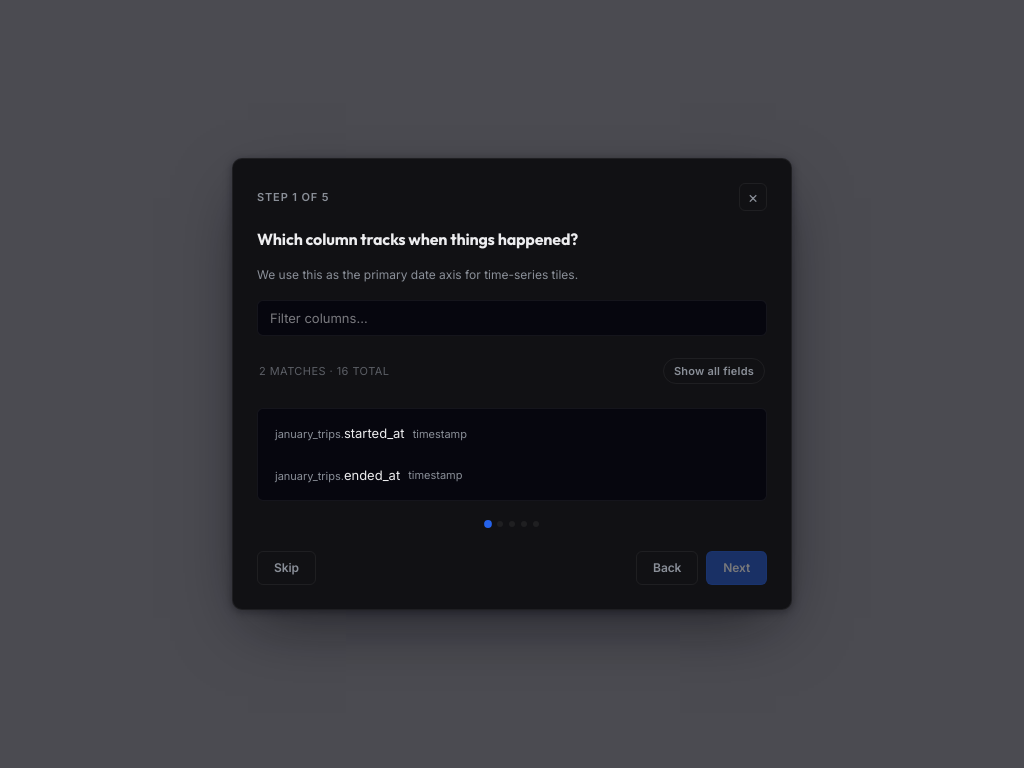
SemanticTagWizard › real backend schema (no role field) › step 3 (dimension) shows every non-temporal categorical column
Note: Advance through date + measure.
Click the option with test id "semantic-wizard-option-january_trips.started_at" at (371, 434), box [264, 415, 478, 453]
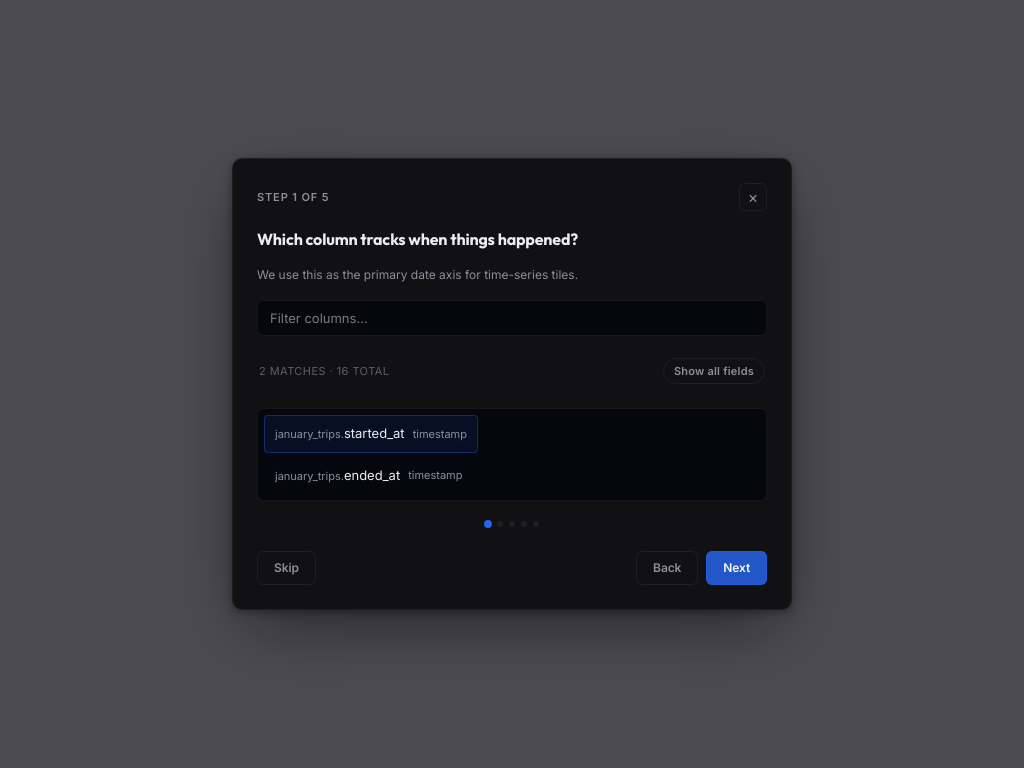
Click the button with test id "semantic-wizard-next" at (737, 568), box [706, 551, 767, 585]
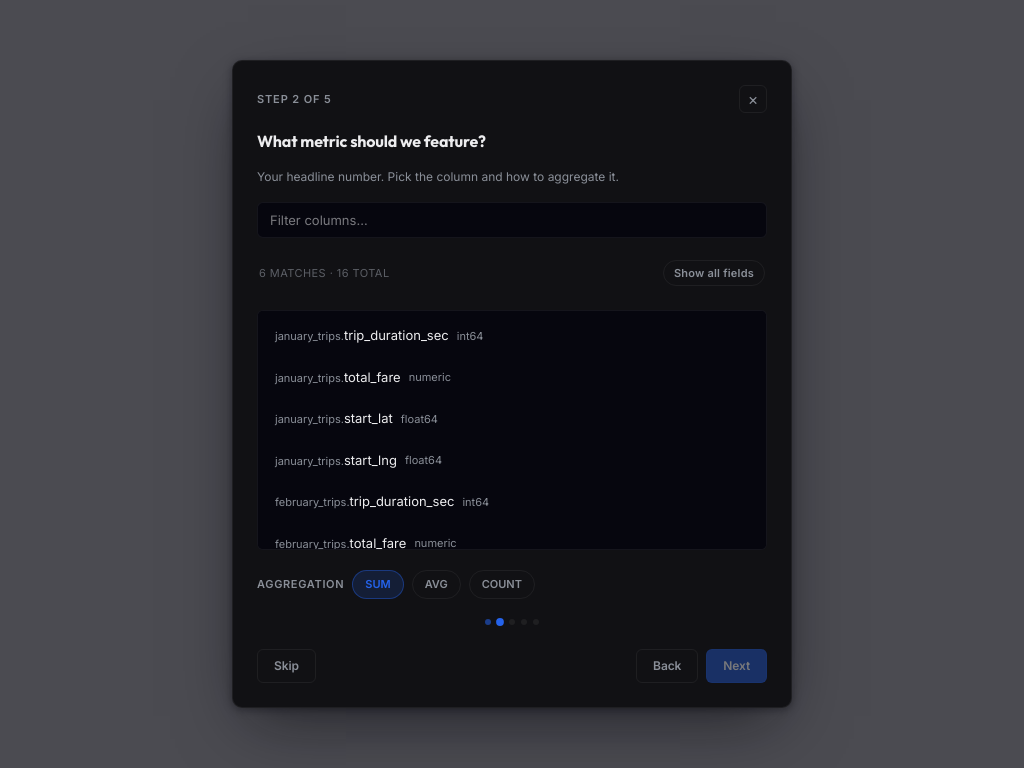
Click the option with test id "semantic-wizard-option-january_trips.total_fare" at (363, 378), box [264, 359, 462, 396]
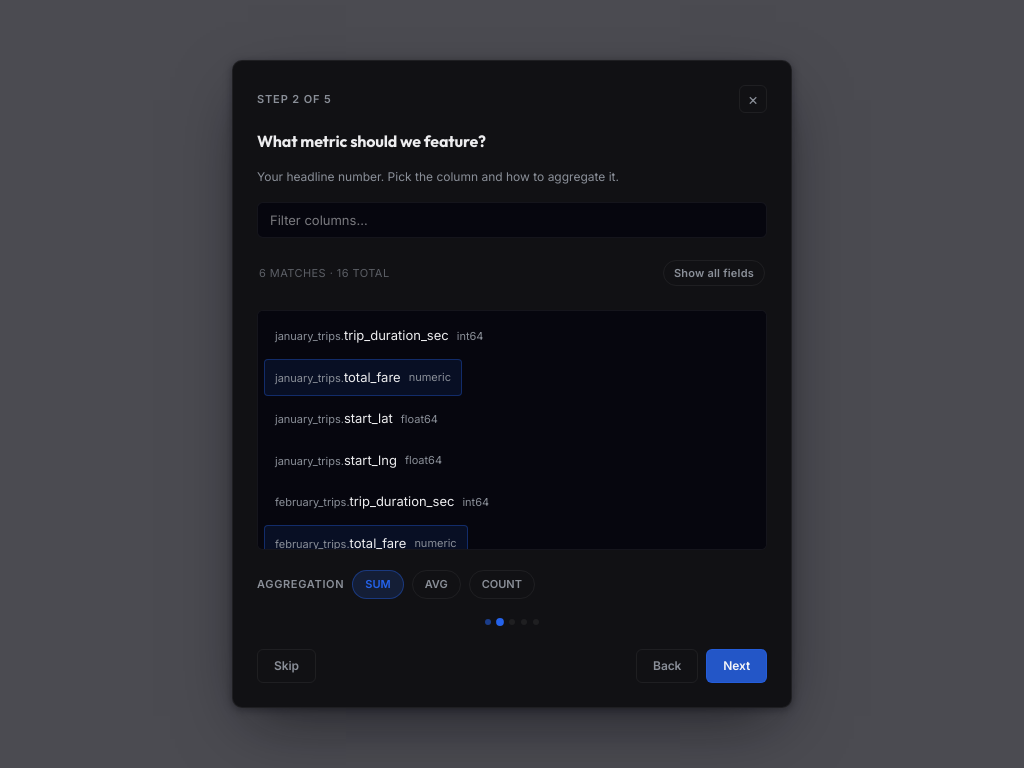
Click the button with test id "semantic-wizard-next" at (737, 666), box [706, 649, 767, 683]
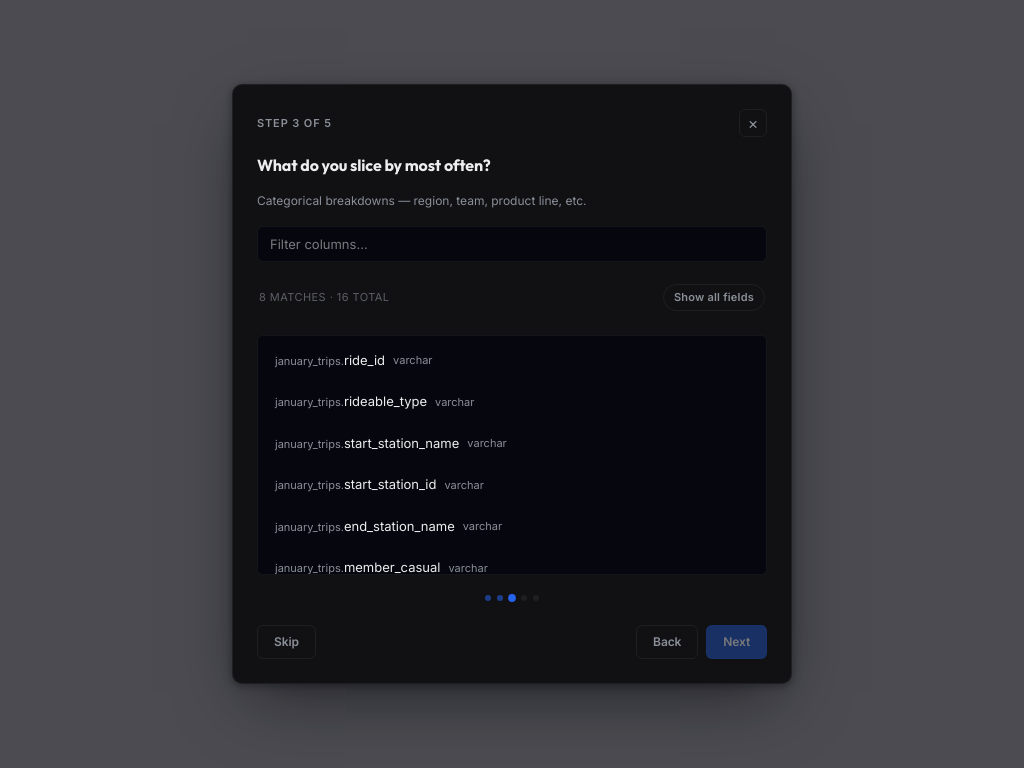
Now the option with test id "semantic-wizard-option-january_trips.rideable_type" is shown, box [264, 383, 485, 421]
Now the option with test id "semantic-wizard-option-january_trips.start_station_name" is shown, box [264, 425, 518, 462]
Now the option with test id "semantic-wizard-option-january_trips.member_casual" is shown, box [264, 549, 499, 575]
